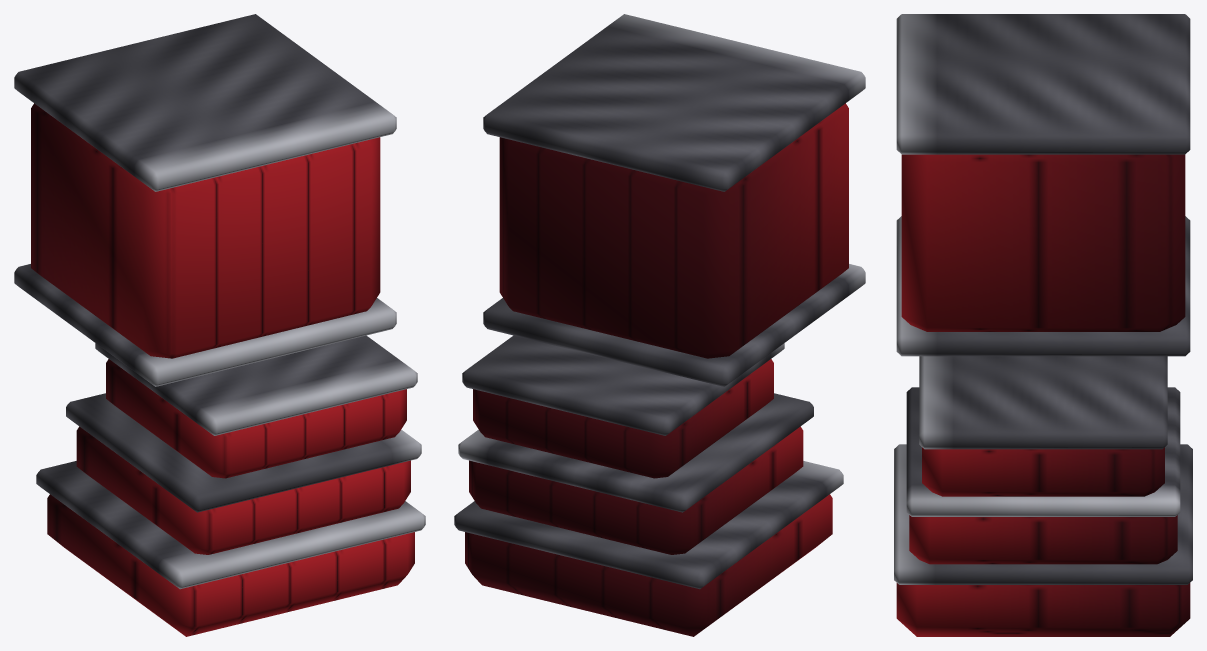
File: parasite_hide_plated_arm.obj
3 views of the same model, side by side, from view 1: azimuth 30°, elevation 25°; view 2: azimuth 150°, elevation 25°; view 3: azimuth 270°, elevation 25° (orthographic). The views are drawn at different scales.
Parts seen in each view (by area): view 1: hide_plated_arm; view 2: hide_plated_arm; view 3: hide_plated_arm.
Boxes of the visible parts, left/top/right/bottom form: hide_plated_arm: left=14, top=14, right=425, bottom=636; hide_plated_arm: left=454, top=14, right=865, bottom=636; hide_plated_arm: left=894, top=14, right=1192, bottom=636.
Size of the model in its own units: 0.4093 by 0.6766 by 0.3688.
